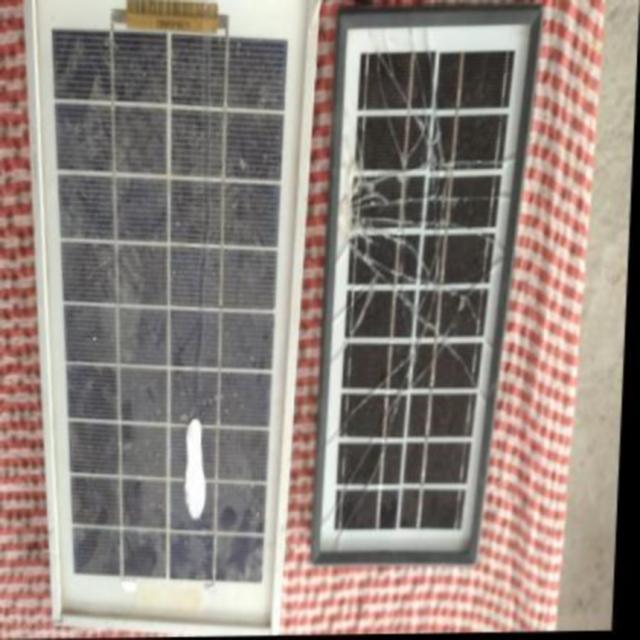cracked: (314, 8, 529, 572)
soiled: (22, 1, 312, 637)
